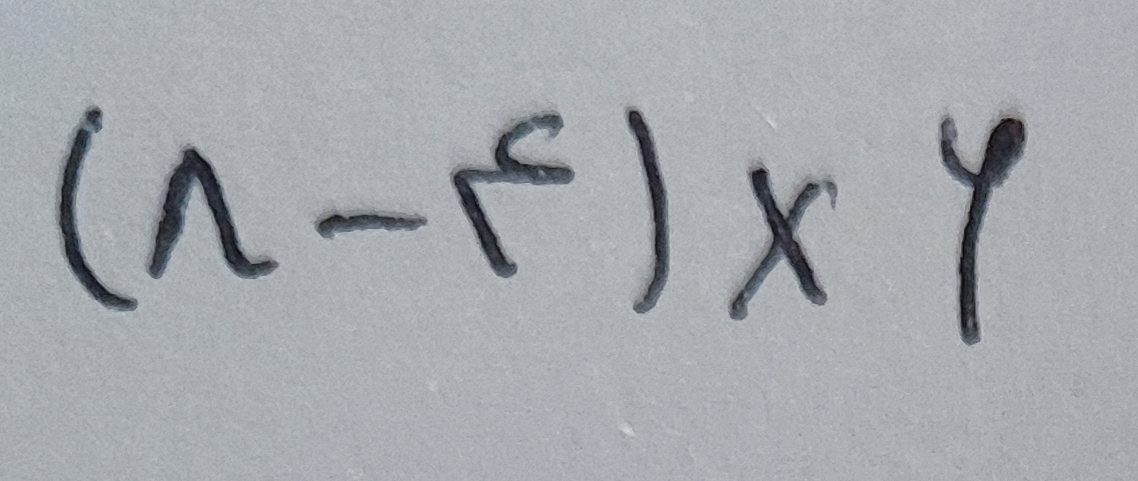character: (922, 101, 1036, 350), (435, 94, 579, 291), (139, 116, 277, 289), (718, 151, 844, 328), (33, 87, 129, 310), (601, 100, 678, 315), (294, 186, 428, 244)
